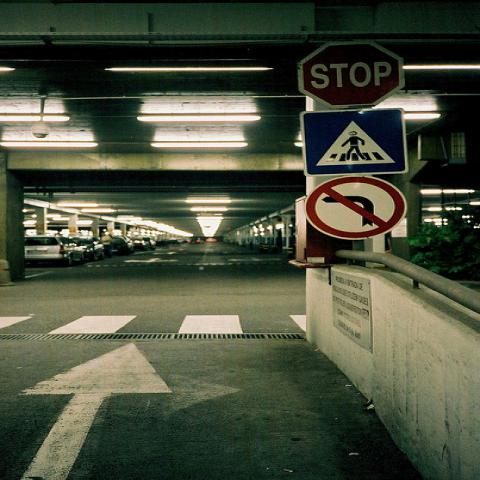car: (26, 235, 85, 267), (74, 238, 110, 262), (100, 234, 136, 255), (134, 239, 152, 250), (143, 238, 157, 250), (187, 236, 205, 244), (156, 241, 168, 246), (206, 237, 217, 242)
